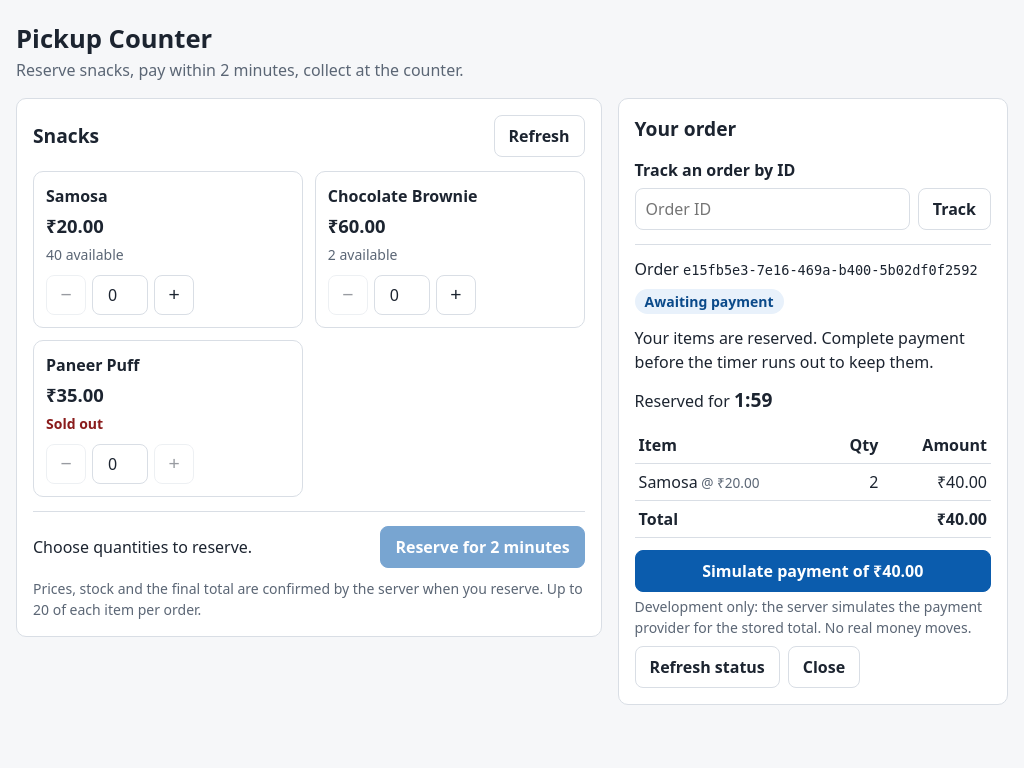
Test case: payment simulation › explains a late payment that needs review
The image size is (1024, 768).
Click the button "Simulate payment of ₹40.00".
click(813, 571)  # box 635,550 -> 991,592
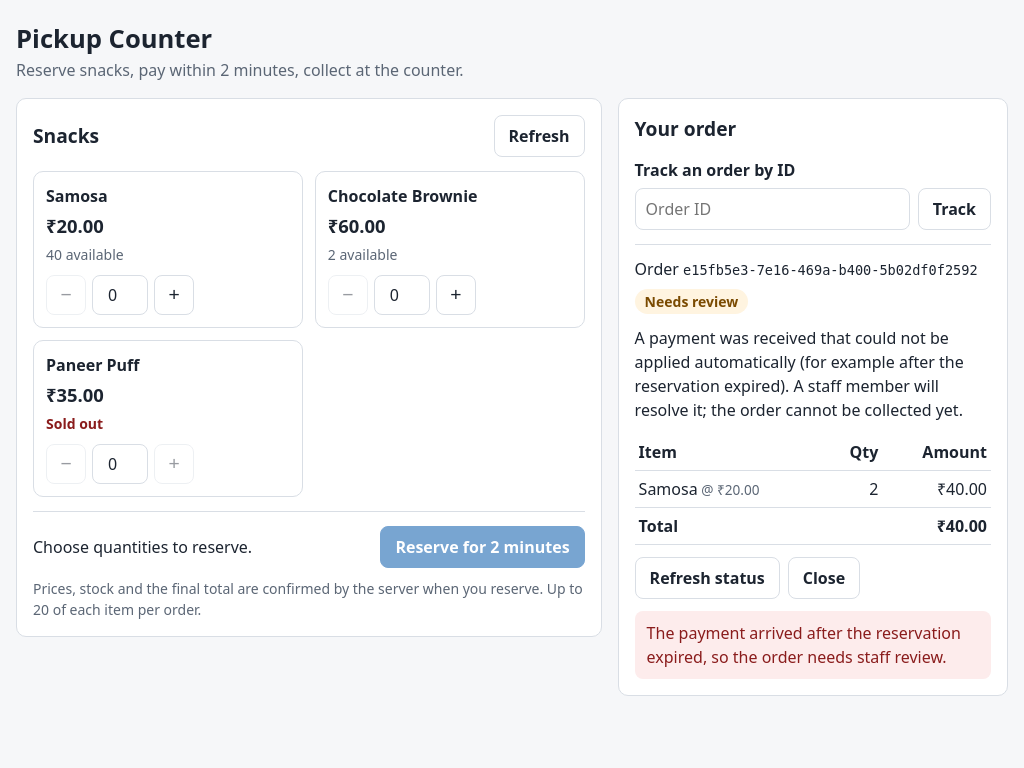
Check: the message shows "arrived after the reservation expired", box 647,622 -> 961,668
Check: the text with id "order-status" reads "Needs review", box 645,292 -> 738,311
